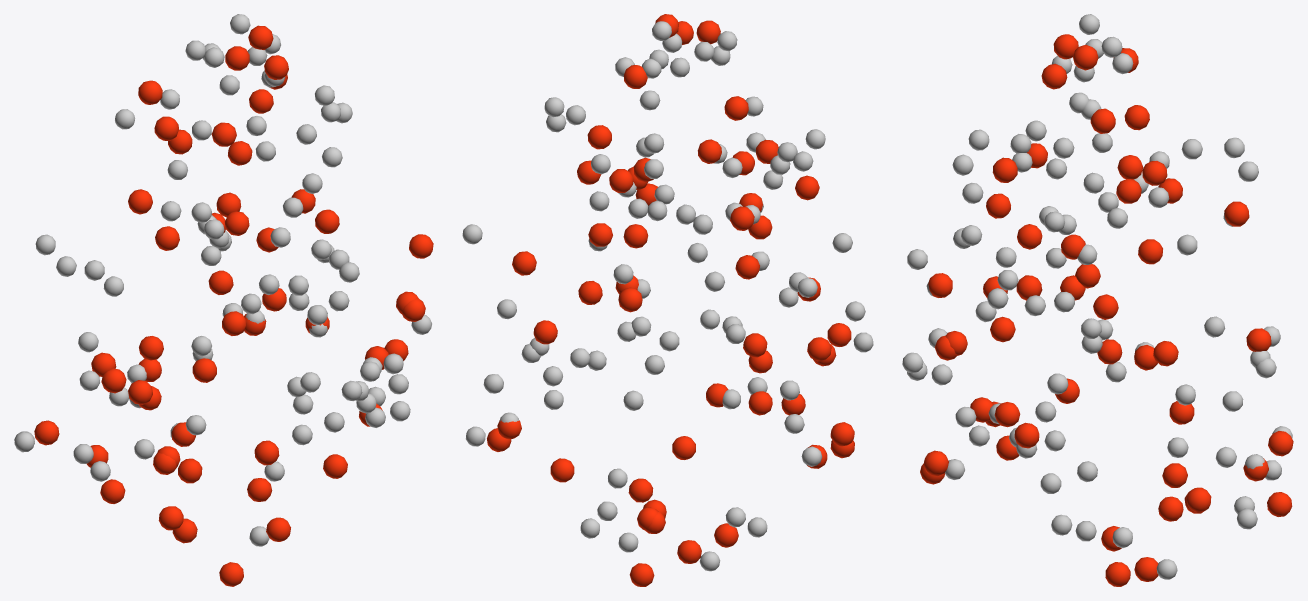
File: Christmas_Tree_Environment.obj
3 views of the same model, side by side, from view 1: azimuth 30°, elevation 25°; view 2: azimuth 150°, elevation 25°; view 3: azimuth 270°, elevation 25° (orthographic). The views are drawn at different scales.
Parts seen in each view (by area): view 1: Icosphere.094; view 2: Icosphere.094; view 3: Icosphere.094.
Part boxes in pixels (x1,y1,x2,y2): Icosphere.094: [14, 14, 433, 586]; Icosphere.094: [462, 14, 873, 586]; Icosphere.094: [902, 14, 1293, 586].
Bounding box in the file's own units: 0.9143 × 1.19 × 0.8314.
